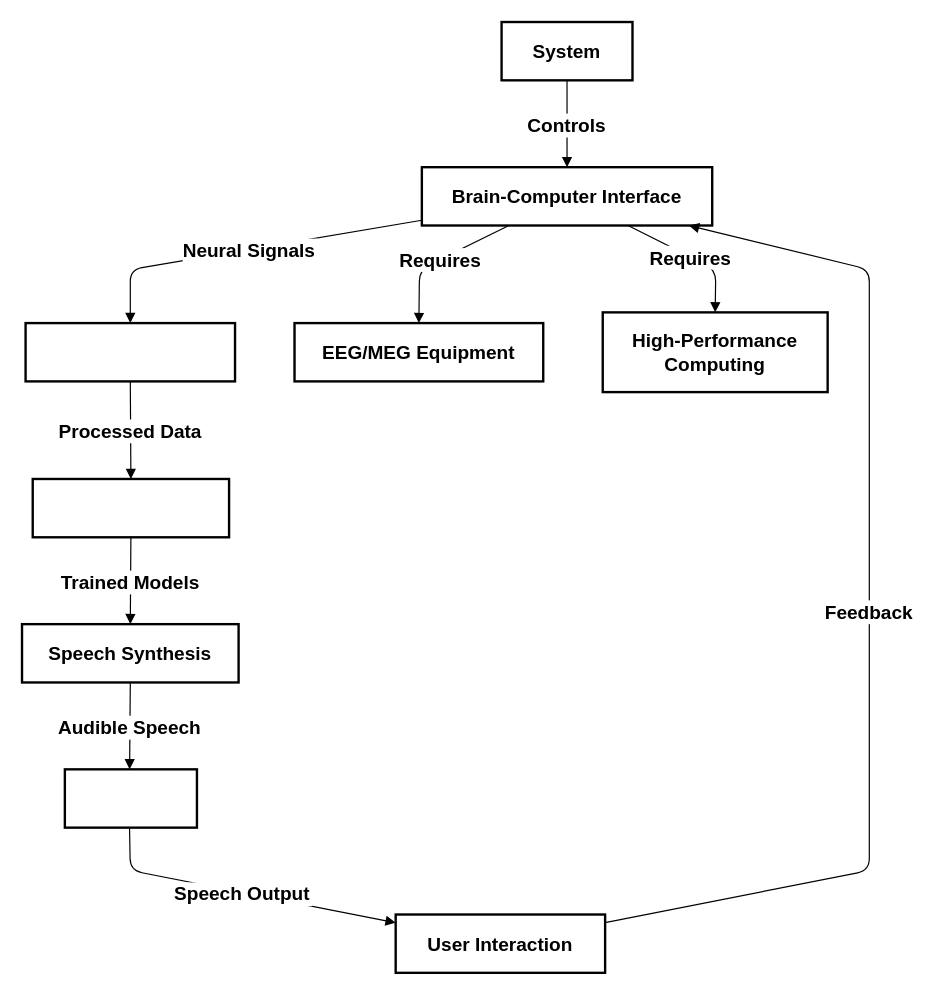
Some shapes in this 934 by 994 pixel diagram are drawn without their labels. The shapes that lost their labels are listed below. From the top down, each one's box as (x1, y1, x2, y2) in pixels, then its label:
(24, 321, 236, 382): Data Acquisition
(31, 477, 230, 538): Model Training
(63, 768, 198, 828): Output
